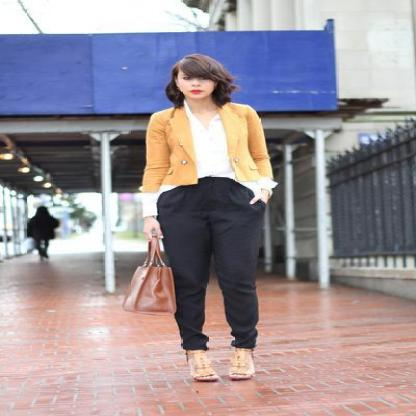bag: (125, 261, 176, 313)
jacket: (138, 102, 272, 191)
pants: (156, 176, 261, 354)
shirt: (137, 101, 277, 208)
shoe: (176, 349, 254, 384)
